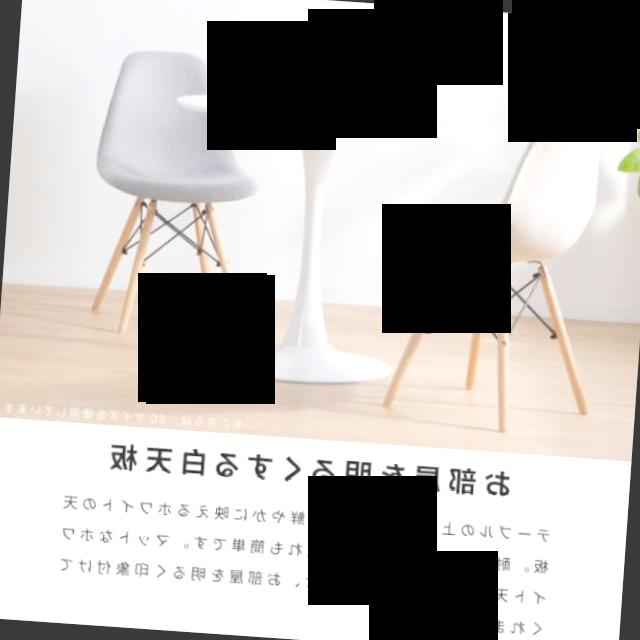white chair: (371, 87, 623, 428), (79, 44, 268, 345)
white desk: (187, 79, 440, 394)
